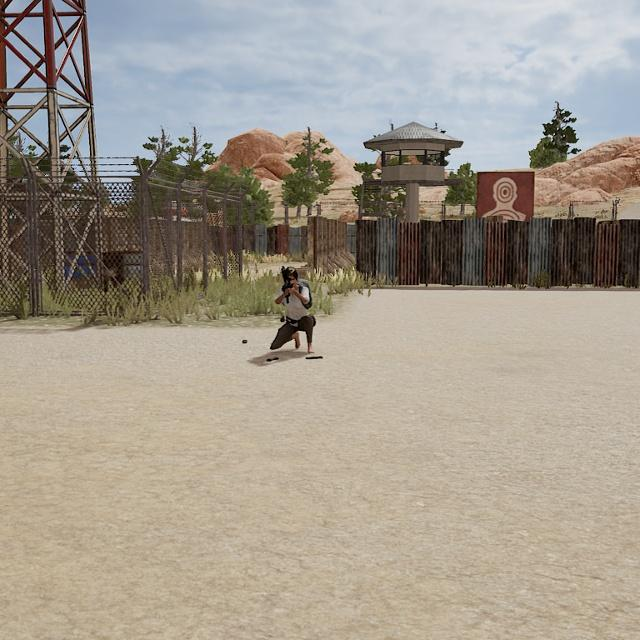head: (282, 266, 299, 289)
people: (269, 266, 316, 354)
